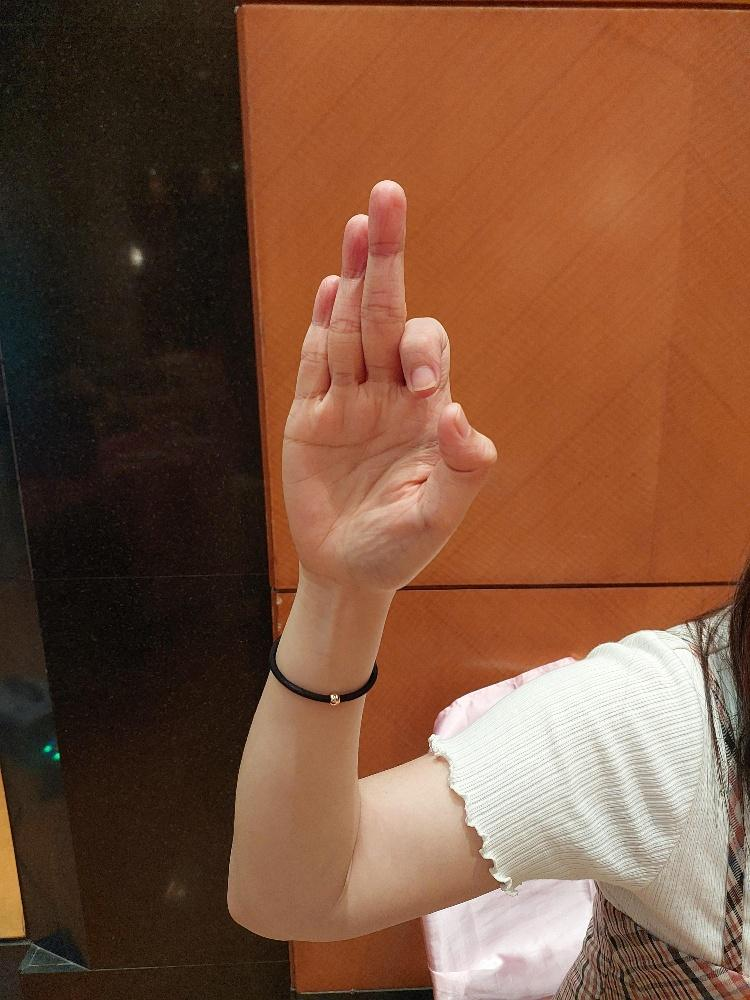f: (278, 176, 498, 592)
